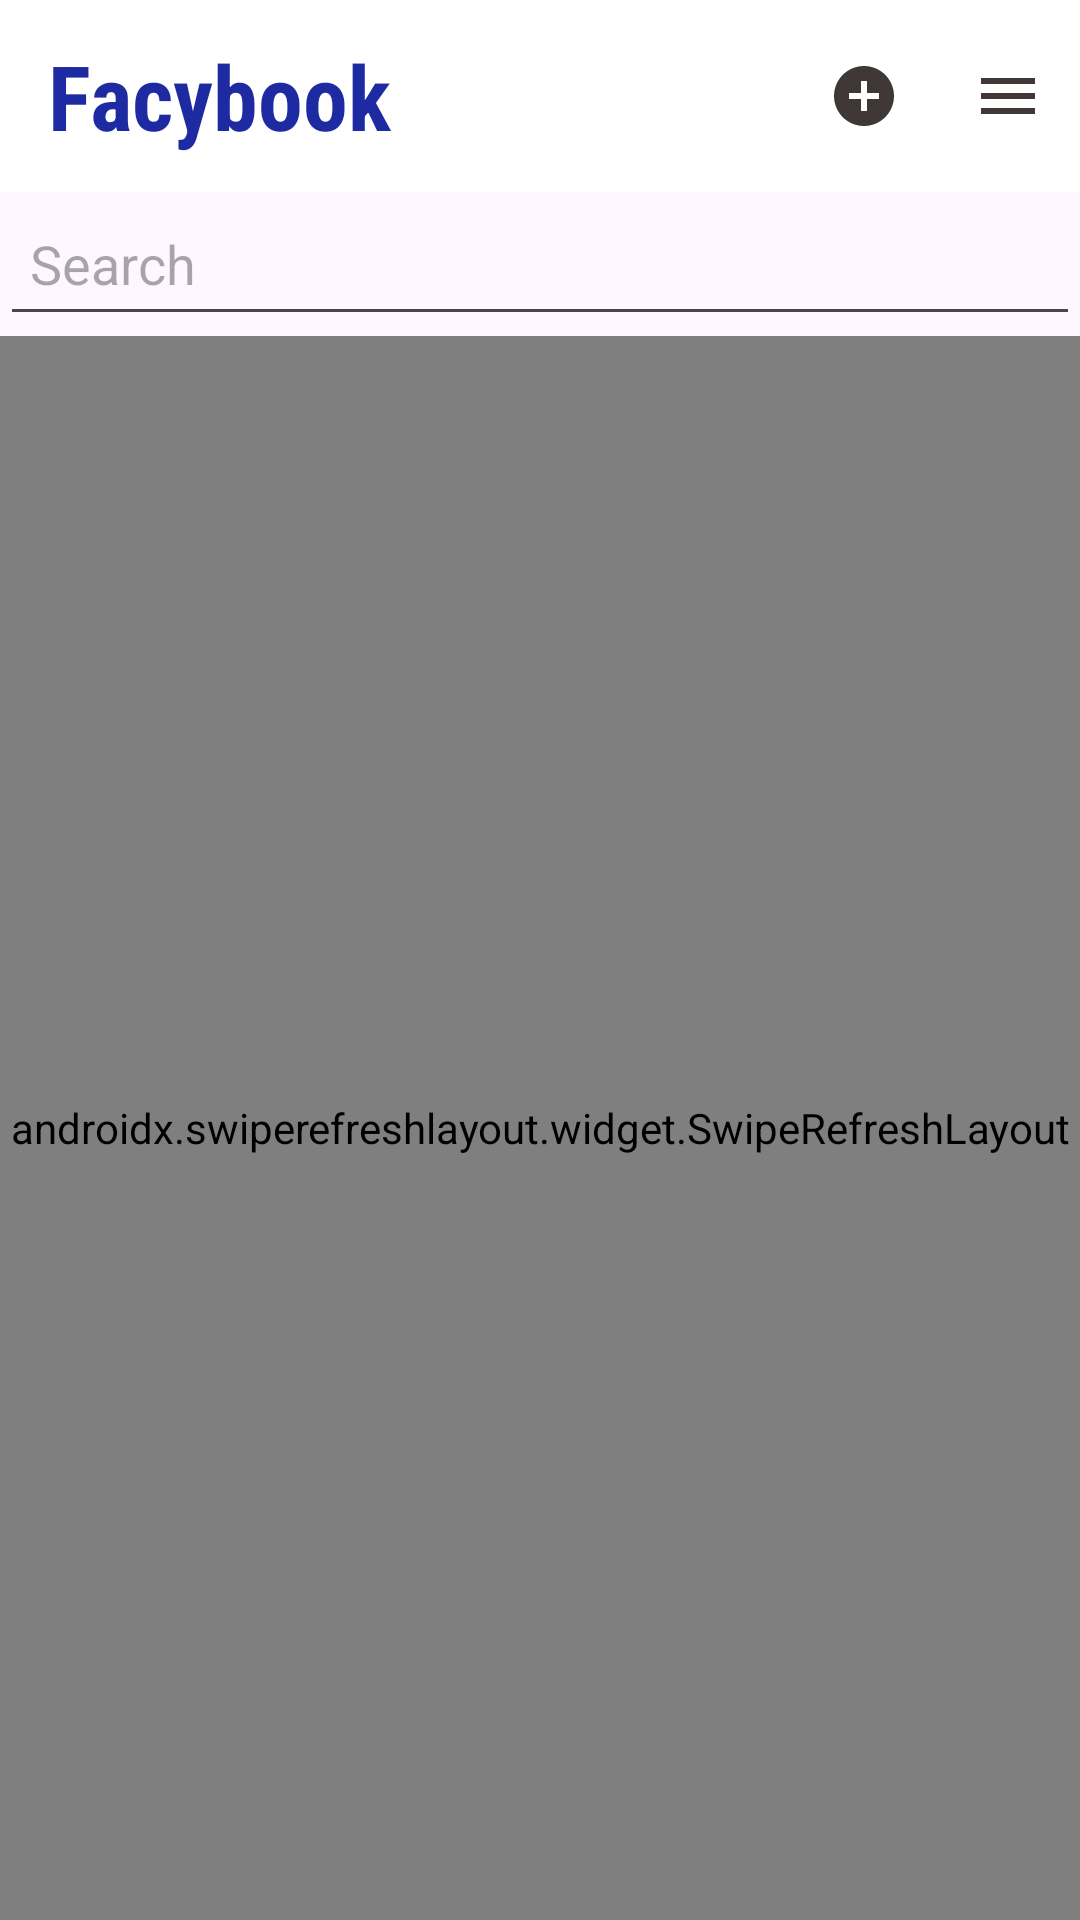

Where icons sit on this 1080×1920 app screen, as {"x1": x1, "y1": y1, "x2": x2, "y2": y2}:
add post to feed: {"x1": 834, "y1": 66, "x2": 894, "y2": 126}
menu for feed: {"x1": 981, "y1": 78, "x2": 1035, "y2": 114}
